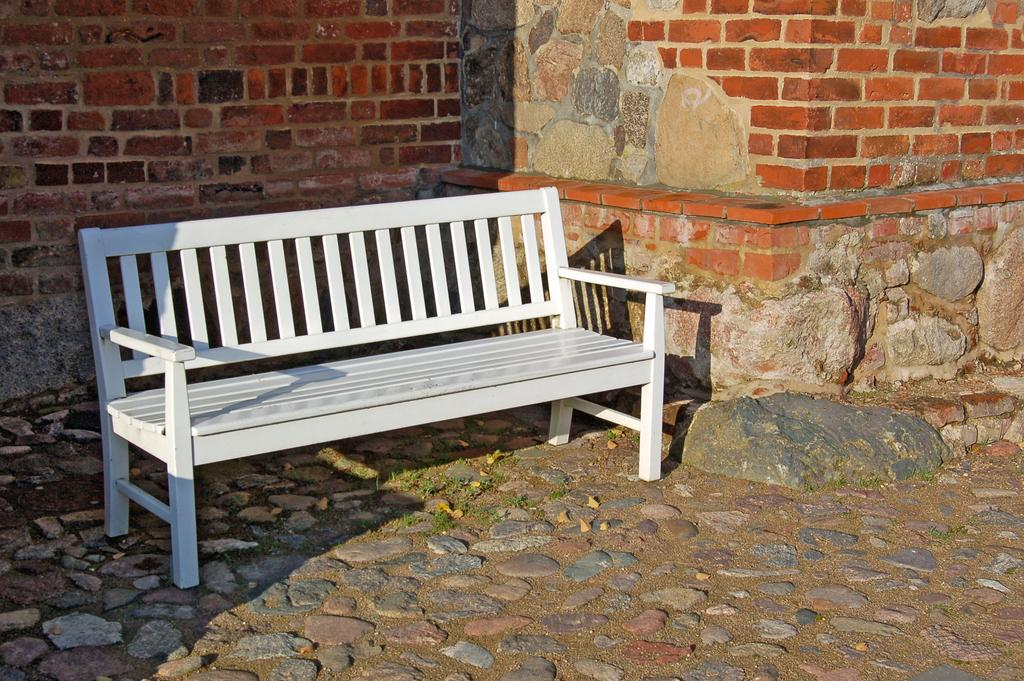Chair: (92, 197, 687, 561)
